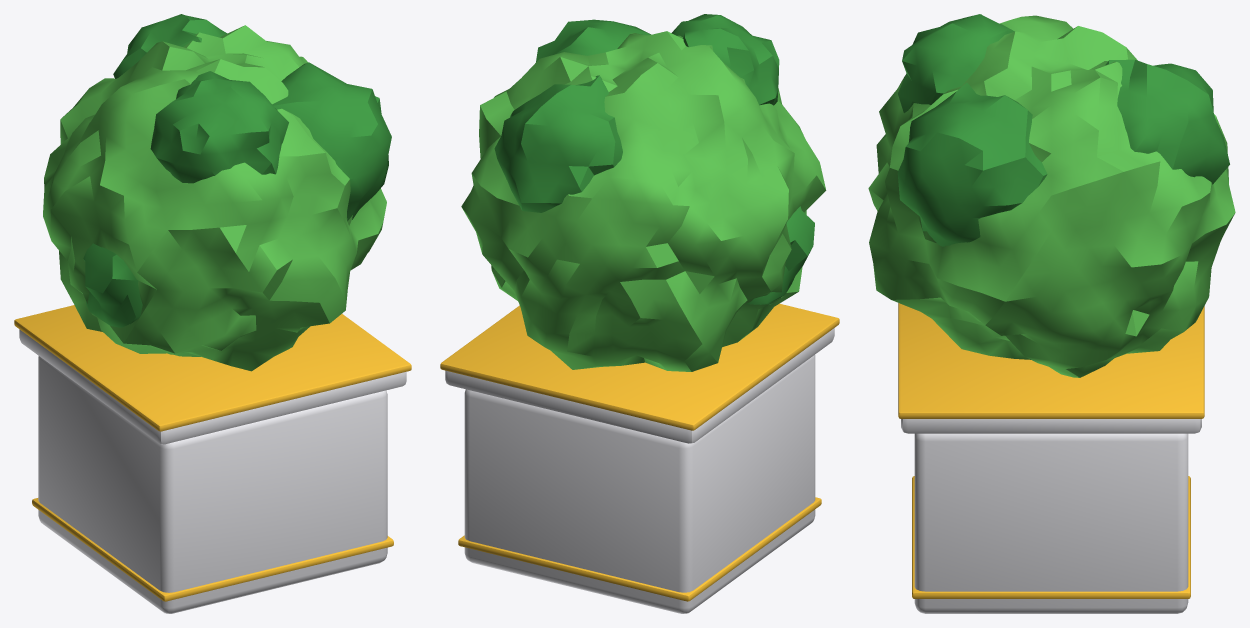
Rendered from PropPottedBush.fbx.
3 views of the same model, side by side, from view 1: azimuth 30°, elevation 25°; view 2: azimuth 150°, elevation 25°; view 3: azimuth 270°, elevation 25° (orthographic). The views are drawn at different scales.
Visible parts, largest first — view 1: Leaf, Marble, DarkLeaf, Gold; view 2: Leaf, Marble, Gold, DarkLeaf; view 3: Leaf, Marble, DarkLeaf, Gold.
Boxes of the visible parts, left/top/right/bottom form: Leaf: left=43, top=25, right=386, bottom=371; Marble: left=19, top=329, right=406, bottom=613; DarkLeaf: left=83, top=14, right=391, bottom=327; Gold: left=14, top=305, right=411, bottom=601; Leaf: left=461, top=31, right=826, bottom=371; Marble: left=445, top=328, right=834, bottom=613; Gold: left=440, top=303, right=839, bottom=601; DarkLeaf: left=494, top=14, right=814, bottom=304; Leaf: left=868, top=15, right=1235, bottom=377; Marble: left=901, top=419, right=1201, bottom=613; DarkLeaf: left=897, top=14, right=1229, bottom=246; Gold: left=898, top=303, right=1204, bottom=598.
Size of the model in its own units: 271 by 422 by 269.
